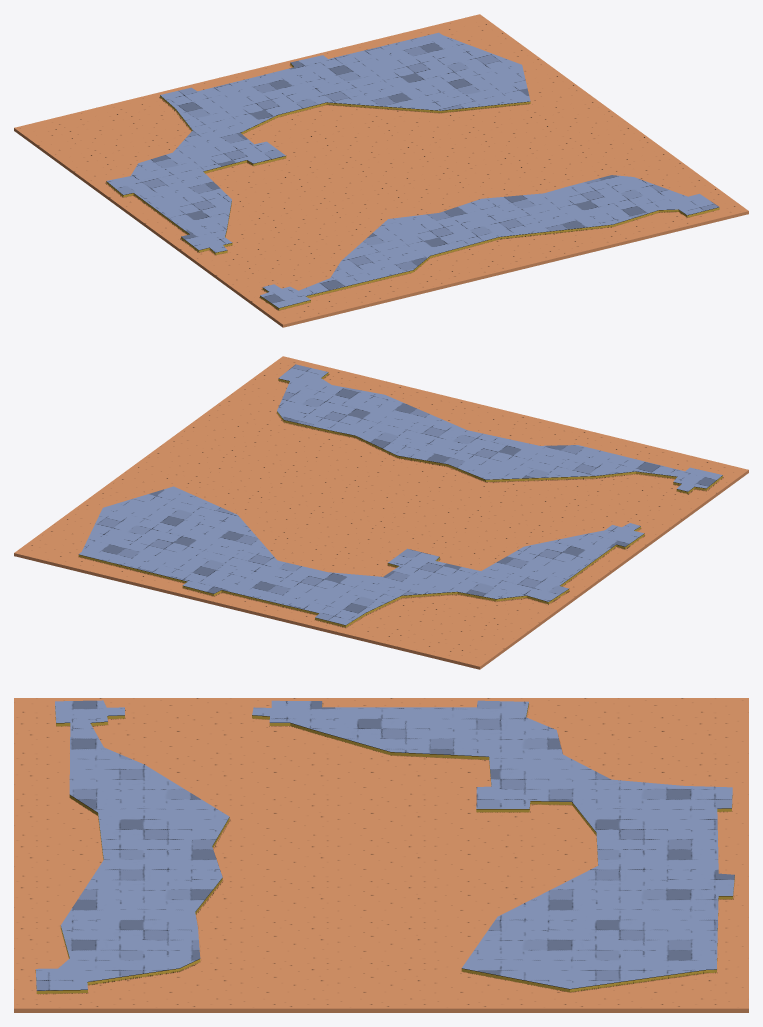
File: Floor_Sand_Small.glb
3 views of the same model, one above another, from view 1: azimuth 30°, elevation 25°; view 2: azimuth 150°, elevation 25°; view 3: azimuth 270°, elevation 25° (orthographic). The views are drawn at different scales.
Parts seen in each view (by area): view 1: Floor_Sand_Small; view 2: Floor_Sand_Small; view 3: Floor_Sand_Small.
Part boxes in pixels (x1,y1,x2,y2): Floor_Sand_Small: [14, 14, 748, 327]; Floor_Sand_Small: [14, 356, 748, 669]; Floor_Sand_Small: [14, 698, 748, 1012].
Bounding box in the file's own units: 16 × 0.1987 × 16.
Materials: 4 (4 with a texture image).
